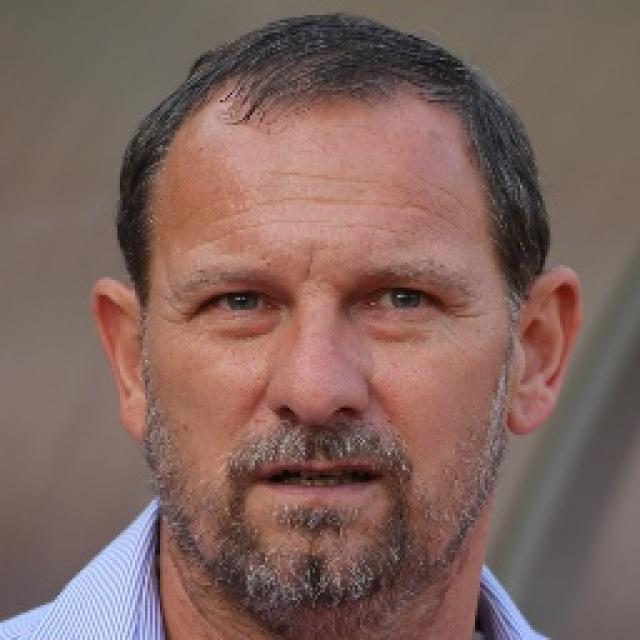earlobe: (506, 380, 545, 438), (117, 384, 149, 444)
eye: (195, 288, 282, 320), (363, 286, 440, 316)
nose: (260, 400, 370, 467)
wholeear: (507, 265, 581, 437), (91, 278, 148, 444)
